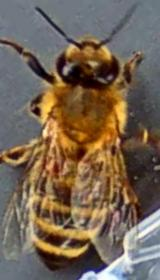varroa_mite: (40, 147, 64, 178)
